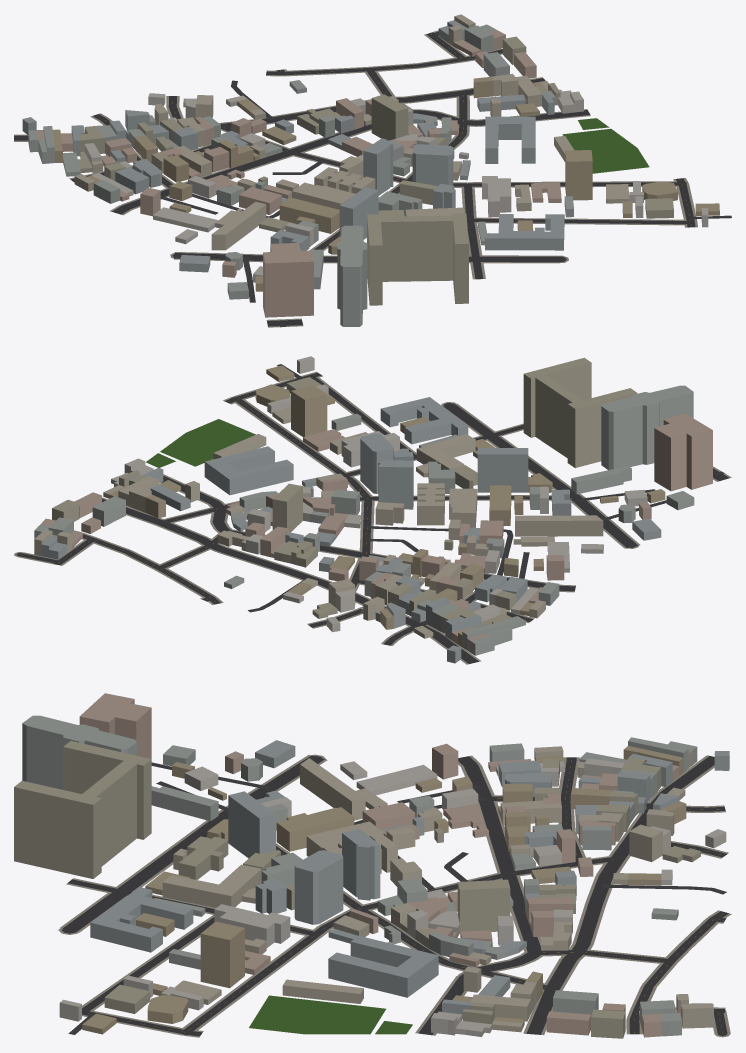
3 views of the same model, one above another, from view 1: azimuth 30°, elevation 25°; view 2: azimuth 150°, elevation 25°; view 3: azimuth 270°, elevation 25° (orthographic). The views are drawn at different scales.
Parts seen in each view (by area): view 1: tile_-1_0; view 2: tile_-1_0; view 3: tile_-1_0.
Boxes of the visible parts, x1,y1,x2,y2 form: tile_-1_0: (14, 14, 731, 327); tile_-1_0: (14, 356, 731, 664); tile_-1_0: (14, 693, 731, 1038).
Size of the model in its own units: 417 by 50 by 438.
